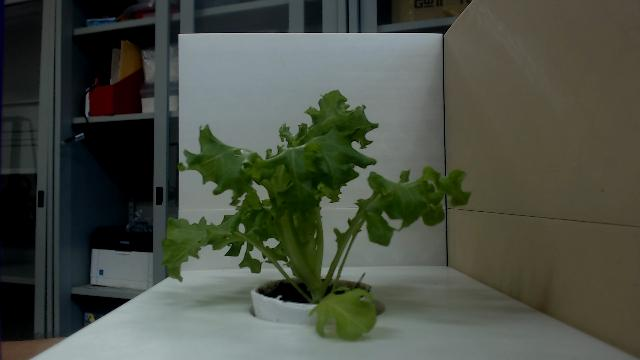Harvest Stage: (163, 87, 473, 343)
